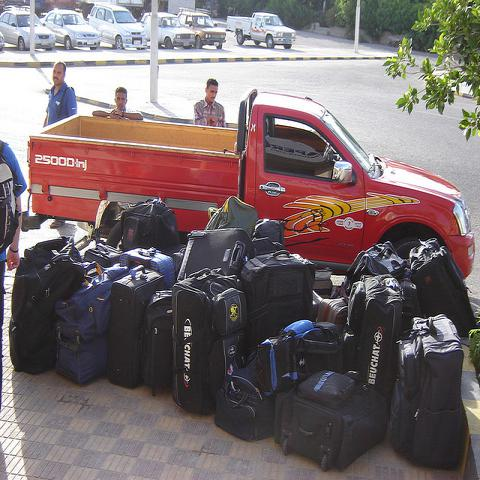car: (86, 2, 150, 50), (39, 9, 100, 51), (0, 10, 56, 51), (177, 7, 230, 49), (141, 11, 195, 50), (0, 32, 5, 51)
truck: (29, 88, 479, 278), (227, 12, 295, 49)
